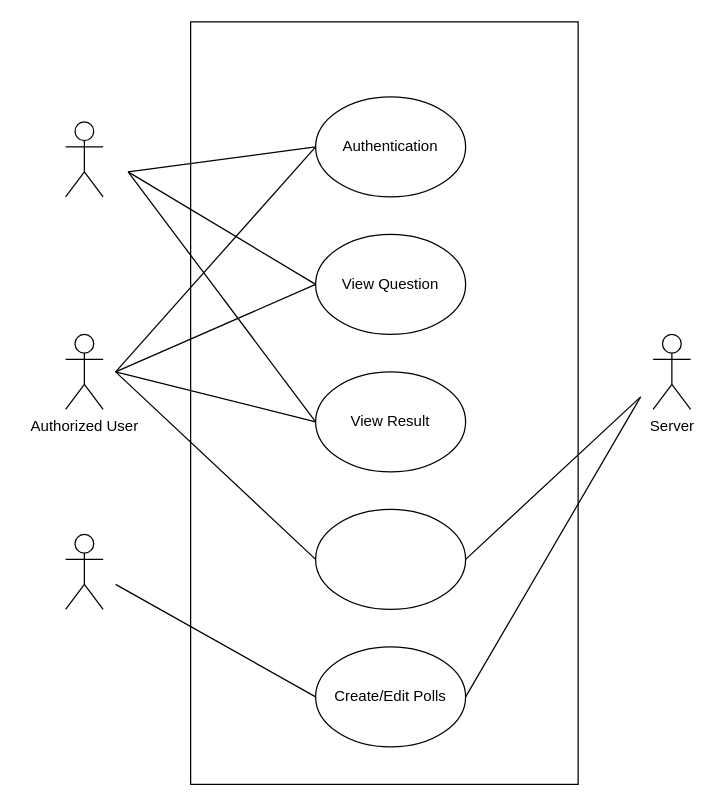
This 715x806 diagram has some shape labels left out. Here are the shapes that lost their labels. From the top down, the box of each, then its label:
(64, 121, 103, 197): Unauthorized User
(64, 533, 103, 609): Admin
(314, 508, 466, 609): Vote
